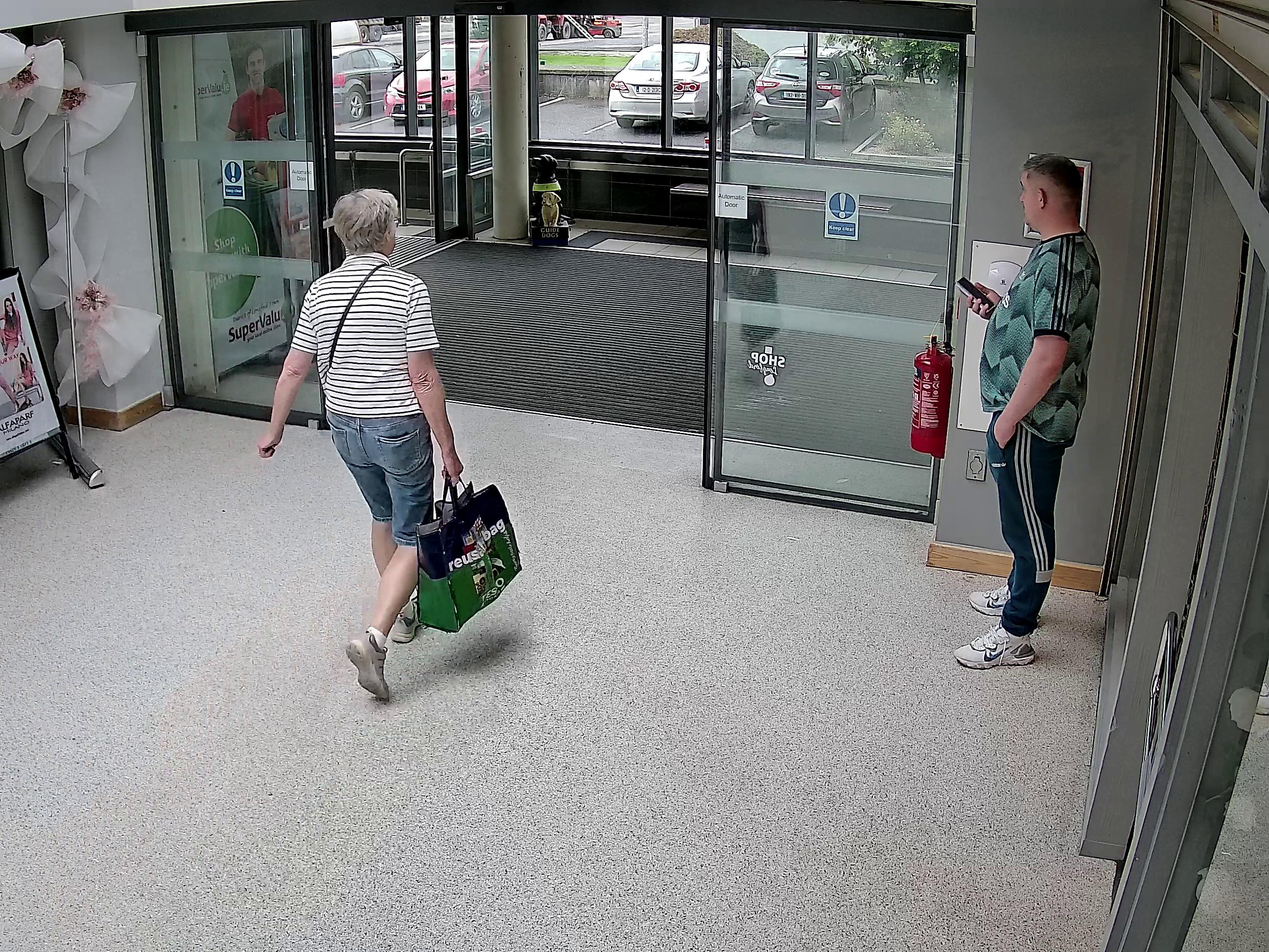filled-shopping-bags: (416, 484, 522, 633)
person: (257, 189, 466, 700)
person-with-filled-shopping-bag-s-: (257, 190, 522, 704)
